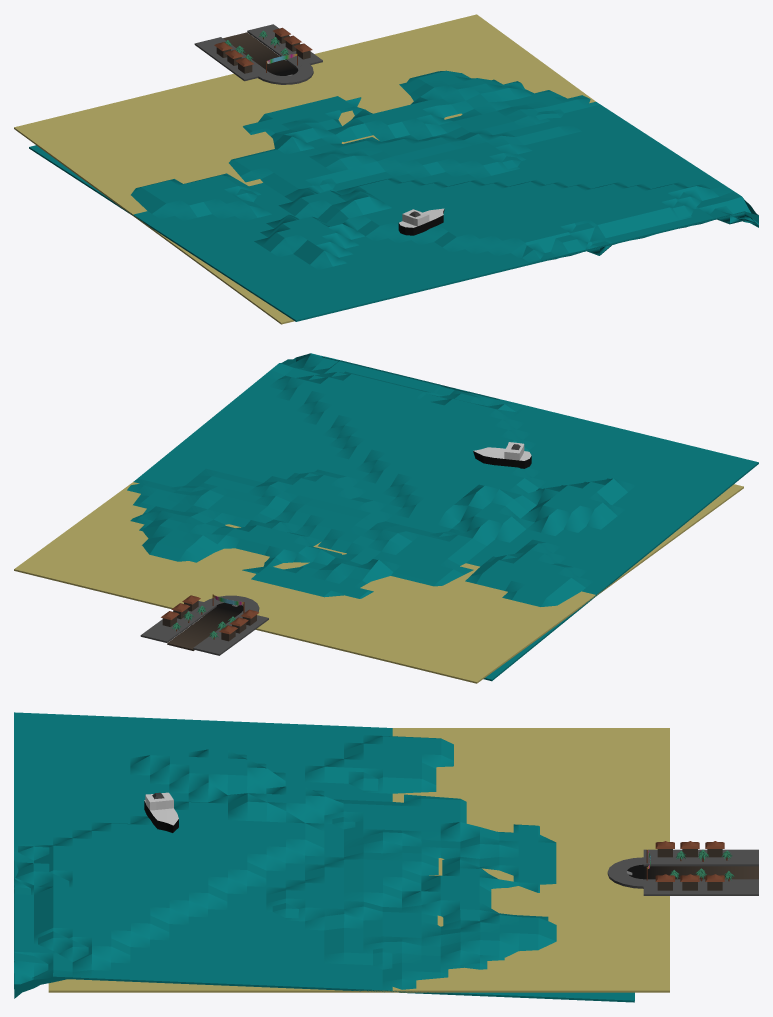
3 renders of one model, top to bottom at view 1: azimuth 30°, elevation 25°; view 2: azimuth 150°, elevation 25°; view 3: azimuth 270°, elevation 25°, orthographic. The views are drawn at different scales.
Visible parts, largest first — view 1: Cube (4), Cube (3), Cube, Boat [Root], Cube (1), Cube (2), Cylinder (1); view 2: Cube (4), Cube (3), Cube, Boat [Root], Cube (2), Cube (1); view 3: Cube (4), Cube (3), Cube (1), Cube (2), Cube, Boat [Root], Cylinder (1).
Part boxes in pixels (box(x1,y1,x2,y2)): Cube (4): box(29, 70, 758, 321); Cube (3): box(14, 14, 595, 324); Cube: box(223, 32, 296, 74); Boat [Root]: box(398, 208, 444, 235); Cube (1): box(194, 37, 269, 81); Cube (2): box(247, 24, 322, 68); Cylinder (1): box(258, 64, 313, 84); Cube (4): box(127, 353, 758, 681); Cube (3): box(14, 482, 743, 683); Cube: box(167, 607, 240, 650); Boat [Root]: box(473, 442, 531, 468); Cube (2): box(140, 601, 216, 642); Cube (1): box(193, 612, 268, 655); Cube (4): box(14, 712, 634, 1002); Cube (3): box(48, 728, 669, 992); Cube (1): box(643, 849, 758, 866); Cube (2): box(643, 879, 758, 895); Cube: box(643, 866, 758, 879); Boat [Root]: box(144, 792, 178, 832); Cylinder (1): box(607, 857, 645, 888).
Bounding box in the file's own units: 300 × 25.98 × 360.
